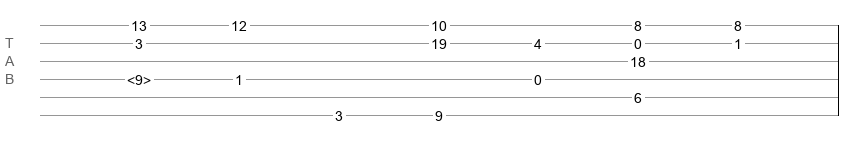0: (534, 72, 542, 82), (634, 36, 642, 46)
1: (235, 72, 243, 82), (734, 36, 742, 46)
10: (431, 18, 447, 28)
12: (231, 18, 247, 28)
13: (131, 18, 147, 28)
18: (630, 54, 646, 64)
19: (431, 36, 447, 46)
3: (135, 36, 143, 46), (335, 108, 343, 118)
4: (534, 36, 542, 46)
6: (634, 90, 642, 100)
8: (634, 18, 642, 28), (734, 18, 742, 28)
9: (435, 108, 443, 118)
harmonic: (127, 72, 151, 82)
